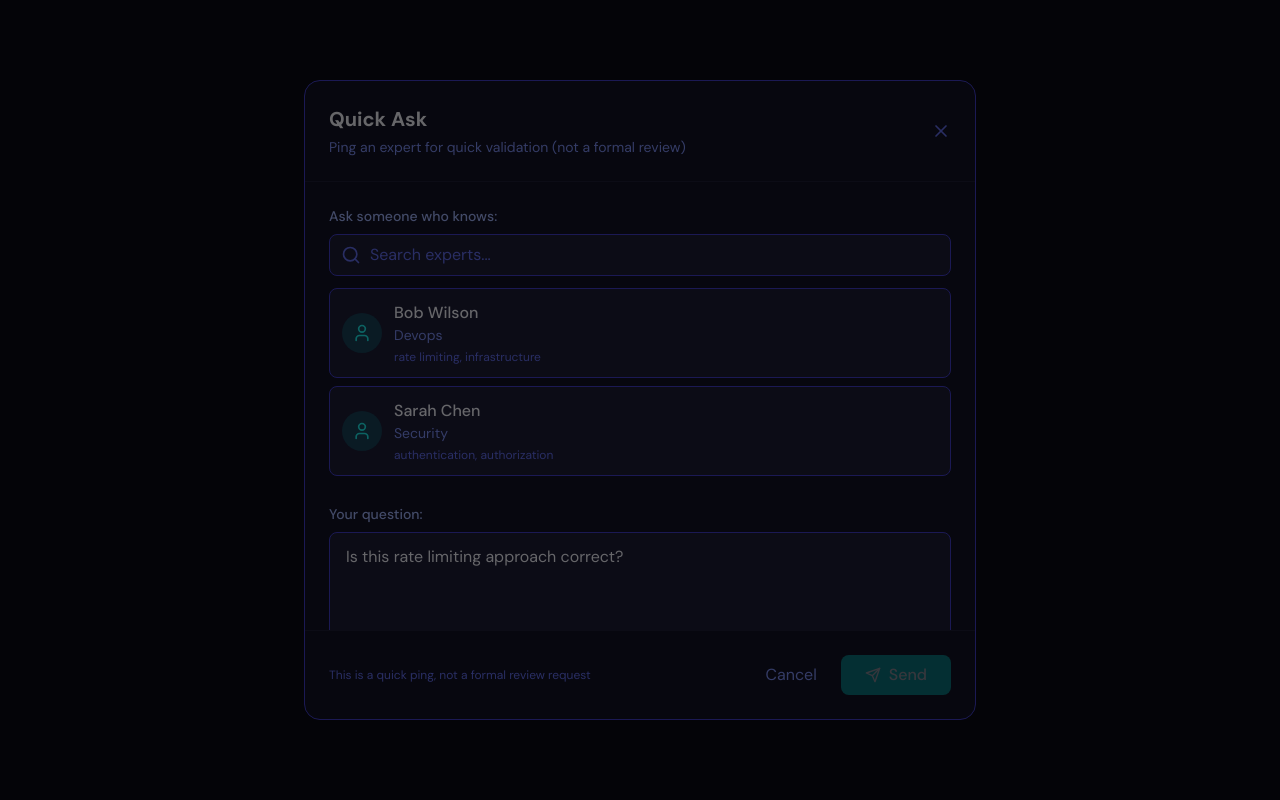
Test case: ExpertAskModal › can search by expertise
The width and height of the screenshot is (1280, 800).
Type "rate limiting" into the field with placeholder "Search experts...".
click(640, 255); type("rate limiting")  # box [329,234,951,276]
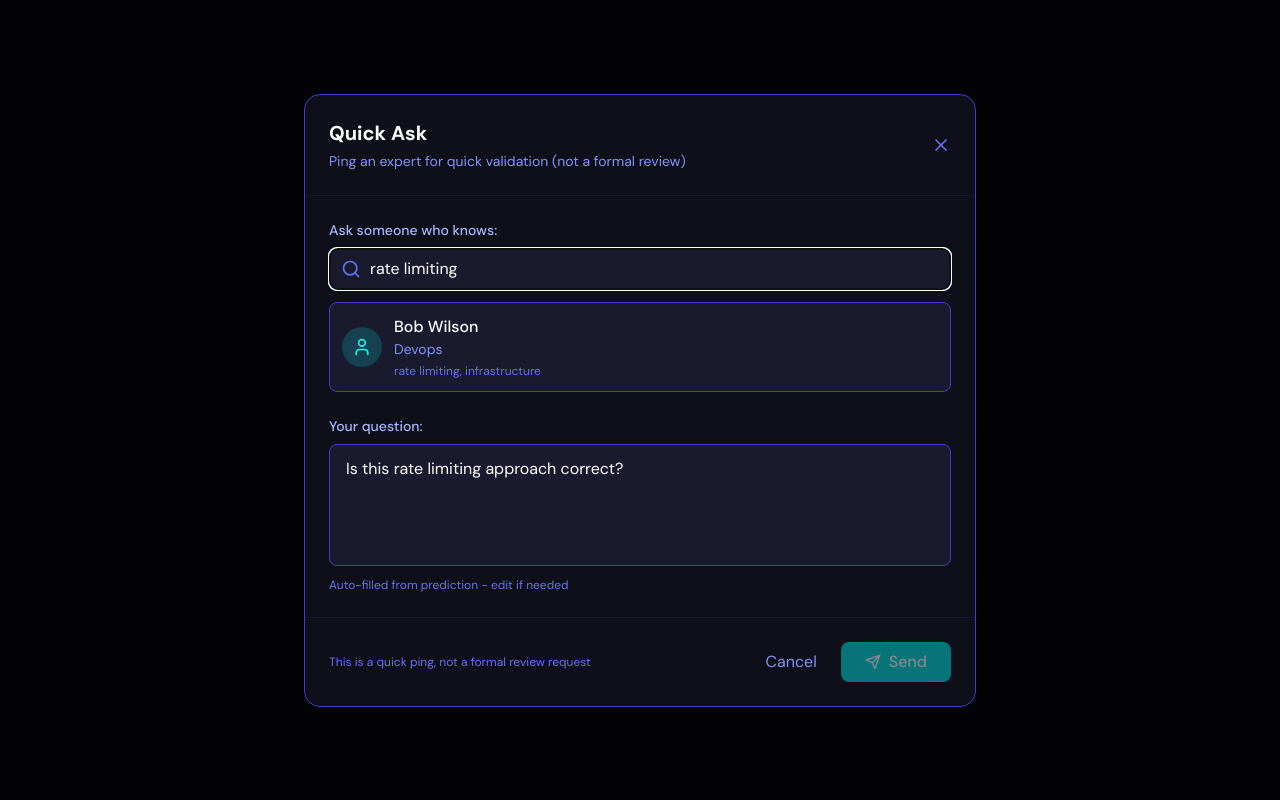
Expected: the text "Bob Wilson" is shown, [394,316,478,336]
Now the button "Sarah Chen" is gone
